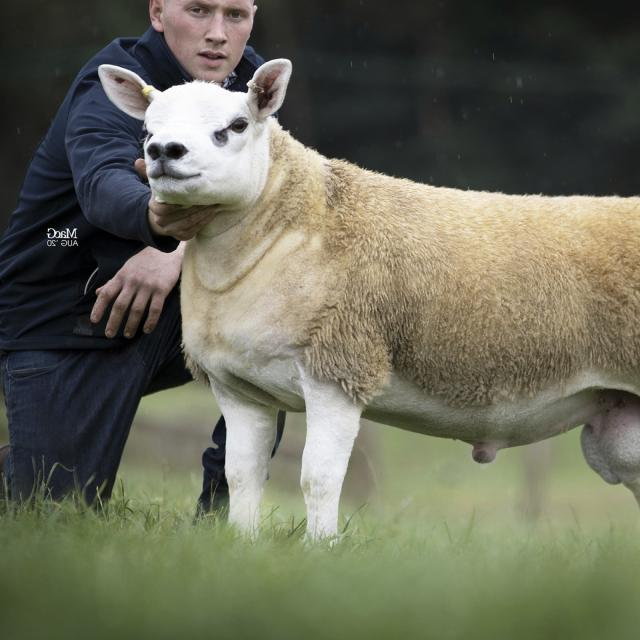sheep: (100, 60, 640, 539)
